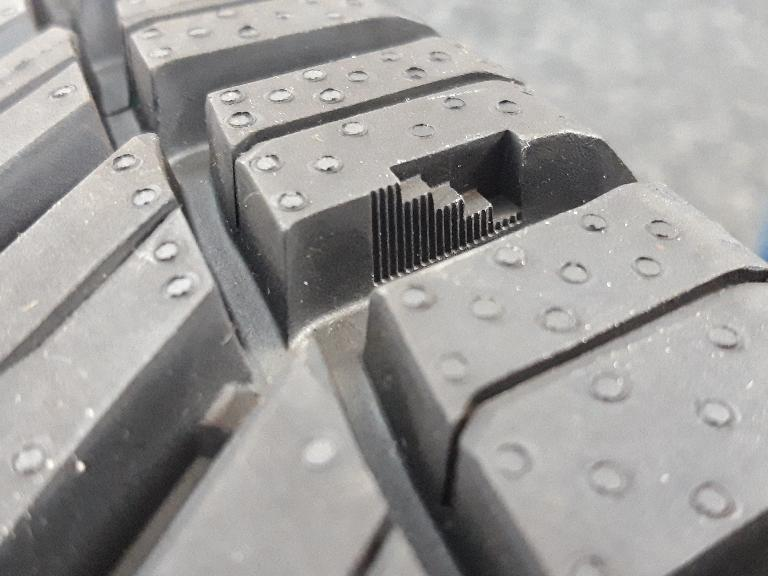temoin:100: (366, 126, 529, 290)
